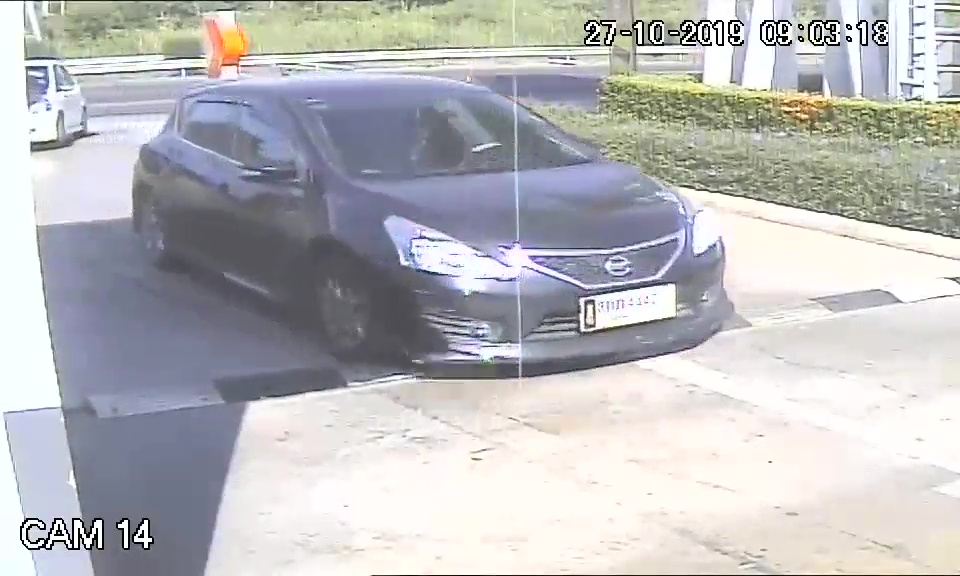sedan: (123, 68, 735, 375)
